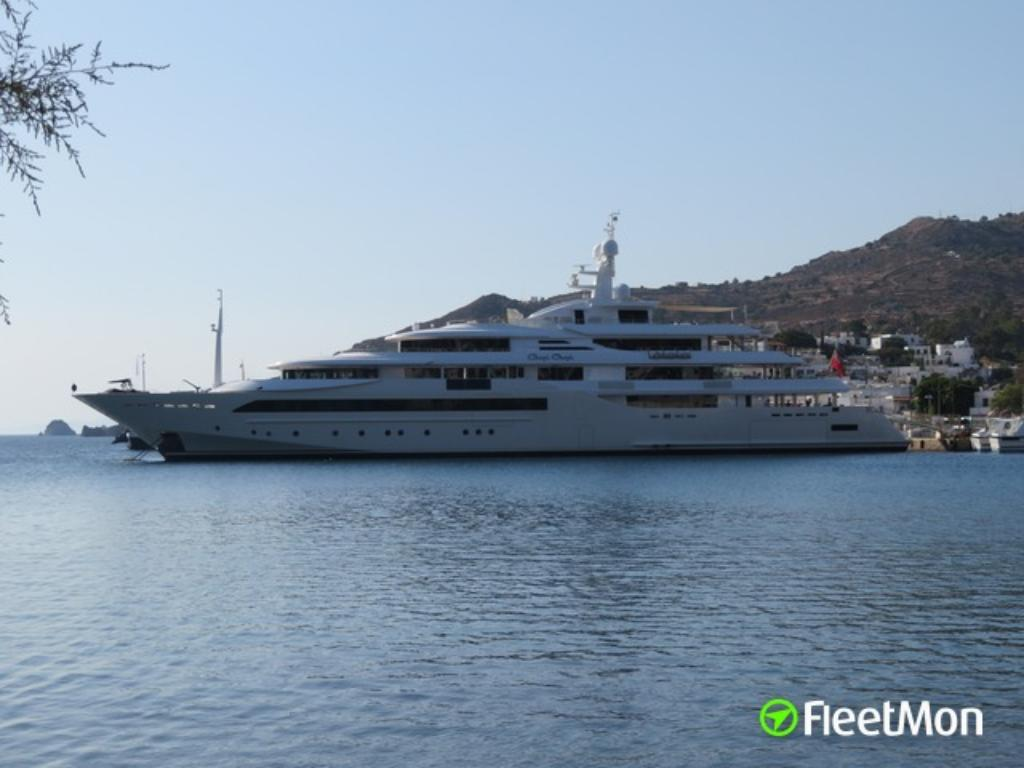PassengerShip: (69, 210, 913, 464)
